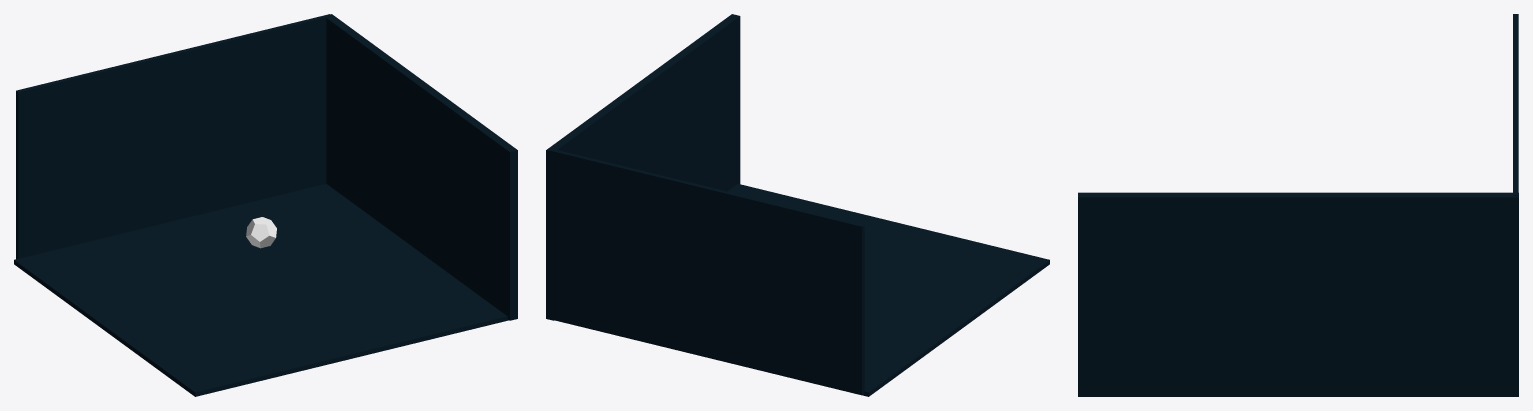
Rendered from dodecaedro.glb.
3 views of the same model, side by side, from view 1: azimuth 30°, elevation 25°; view 2: azimuth 150°, elevation 25°; view 3: azimuth 270°, elevation 25° (orthographic). The views are drawn at different scales.
Visible parts, largest first — view 1: Piso, Piso.002, Piso.001, Dodecaedro; view 2: Piso.002, Piso.001, Piso; view 3: Piso.001, Piso.002.
Boxes of the visible parts, x1,y1,x2,y2 form: Piso: (14, 184, 508, 396); Piso.002: (16, 14, 331, 259); Piso.001: (326, 14, 517, 320); Dodecaedro: (246, 217, 276, 248); Piso.002: (548, 148, 864, 395); Piso.001: (546, 14, 740, 320); Piso: (727, 184, 1049, 396); Piso.001: (1078, 192, 1518, 396); Piso.002: (1513, 14, 1518, 195).
Bounding box in the file's own units: 39.75 × 20.26 × 40.
